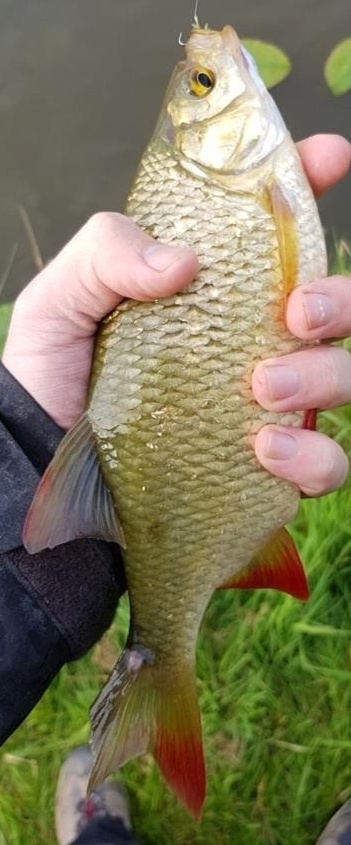Scardinius erythrophthalmus: (20, 20, 331, 825)
